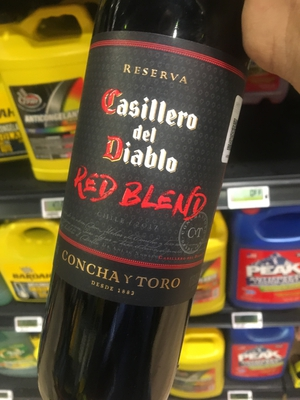casillero del diablo red blend: (45, 6, 238, 396)
